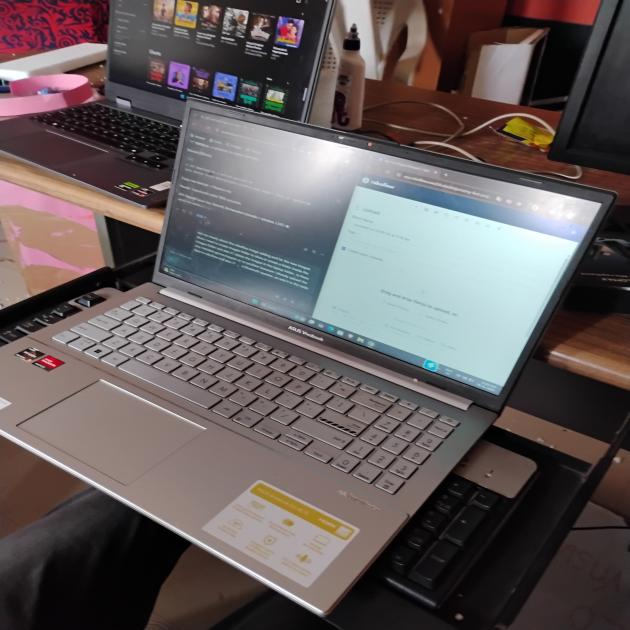laptop: (8, 85, 605, 597)
